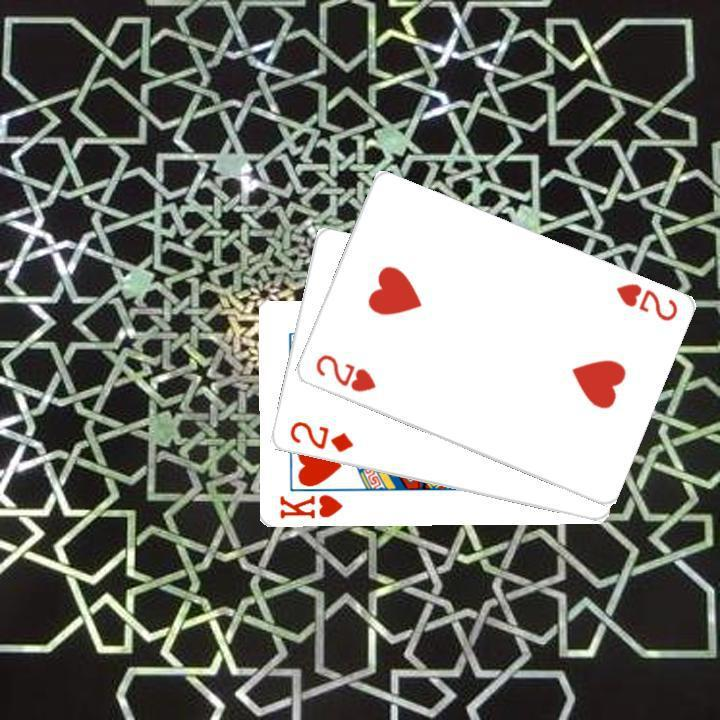2: (610, 279, 679, 324), (310, 350, 378, 395), (285, 417, 355, 455)
K: (275, 491, 344, 521)
